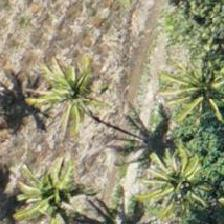coconut_tree: (22, 49, 112, 139), (128, 134, 218, 223), (0, 138, 90, 223), (144, 39, 223, 129)
